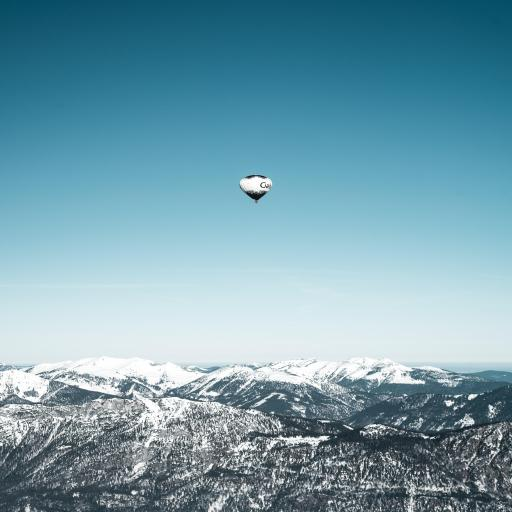hot air ballon: (239, 175, 273, 203)
